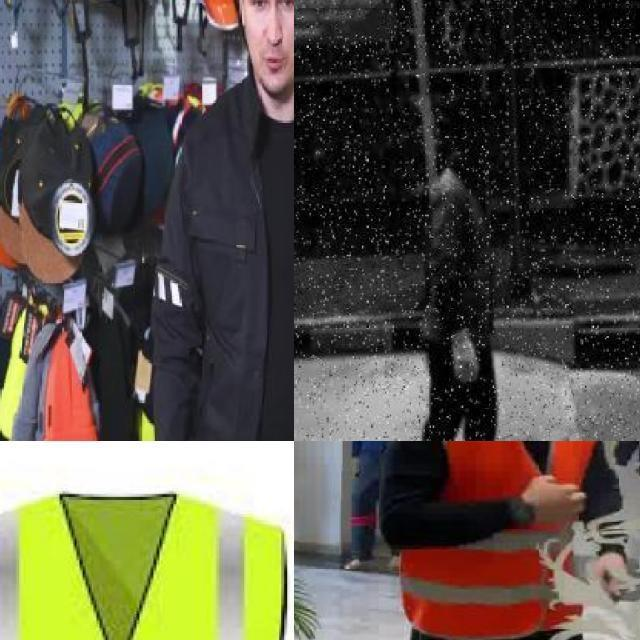apron: (446, 323, 489, 396)
